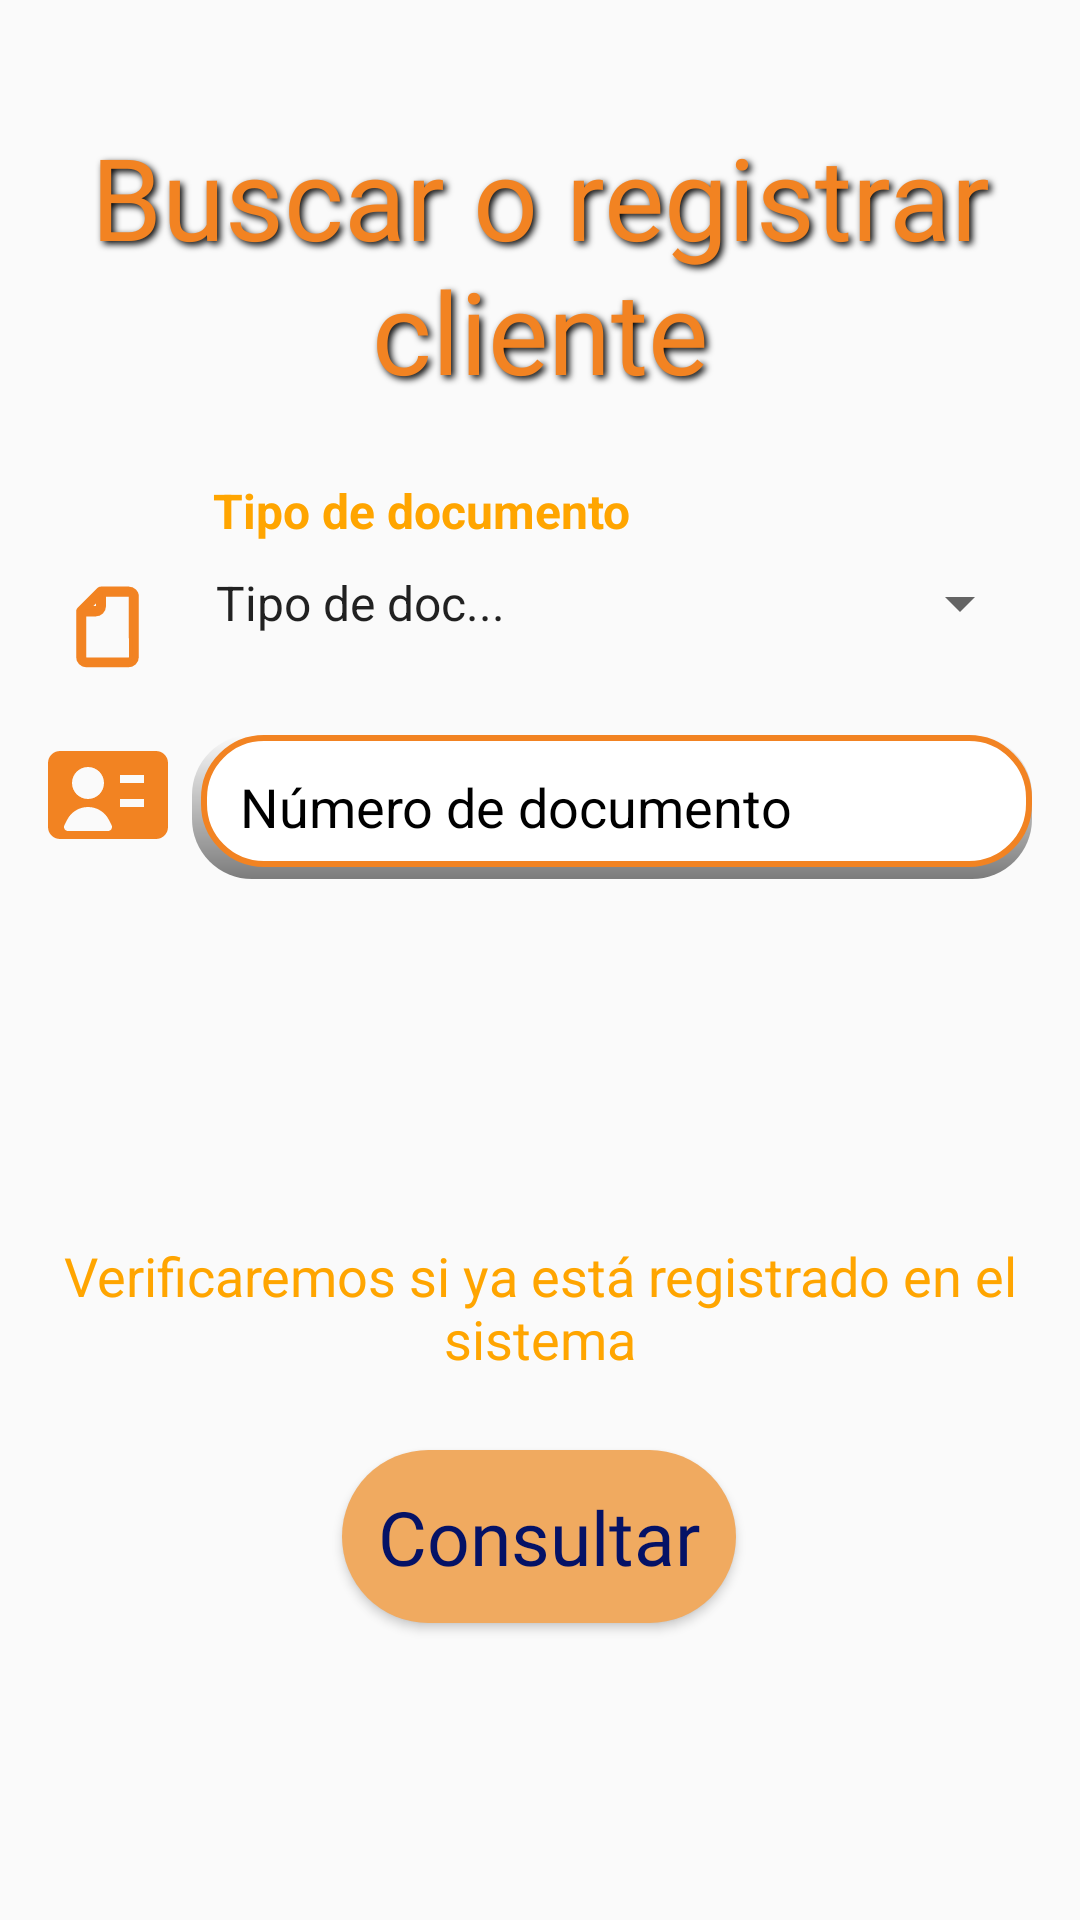

Named icons in this screenshot (1080 × 1920) and their centers, (x=x, y=y):
Ícono número documento: (x=108, y=795)
